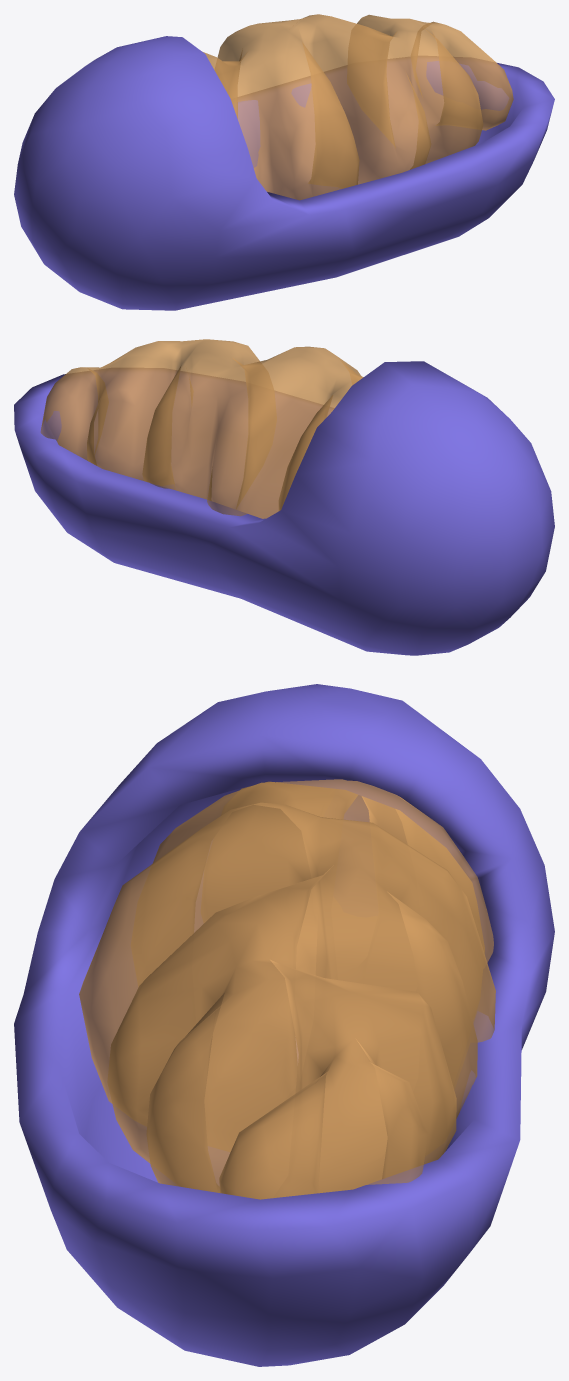
File: Mitokondri1.fbx
The picture shows the model from 3 angles, top to bottom: view 1: azimuth 30°, elevation 25°; view 2: azimuth 150°, elevation 25°; view 3: azimuth 270°, elevation 25°; orthographic projection. The views are drawn at different scales.
Parts seen in each view (by area): view 1: Sphere.2017, Mitokondri-Matriks; view 2: Sphere.2017, Mitokondri-Matriks; view 3: Sphere.2017, Mitokondri-Matriks.
Boxes of the visible parts, x1,y1,x2,y2 form: Sphere.2017: (14,36,554,310); Mitokondri-Matriks: (202,14,513,200); Sphere.2017: (14,361,554,655); Mitokondri-Matriks: (40,339,363,518); Sphere.2017: (14,684,554,1366); Mitokondri-Matriks: (79,779,495,1199).
Bounding box in the file's own units: 89.47 × 42.62 × 46.22.
